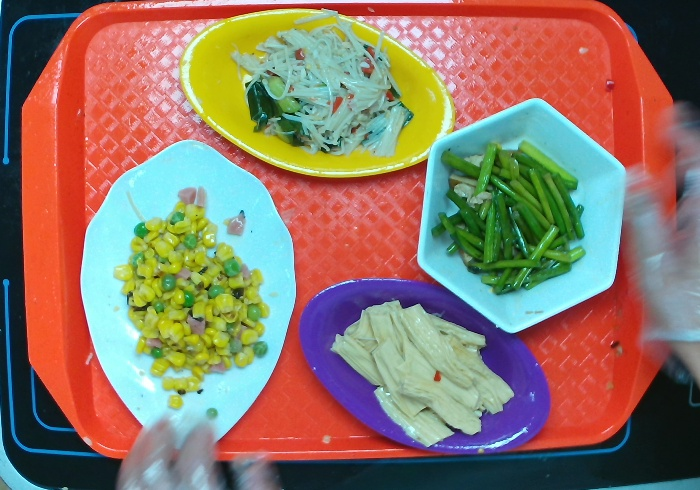RJxy-Bai_Ye_Pan: (78, 137, 301, 442)
RJxy-Fen_Hong_Tuo_Yuan: (299, 269, 547, 462)
RJxy-Huang_Se_Tuo_Yuan: (181, 8, 458, 185)
RJxy-Liu_Jiao_Wan: (416, 96, 632, 338)
